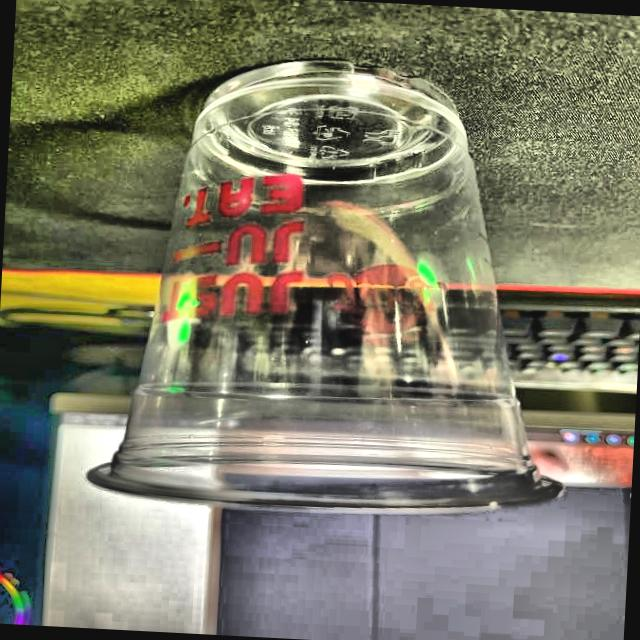plastic cup: (79, 45, 590, 528)
